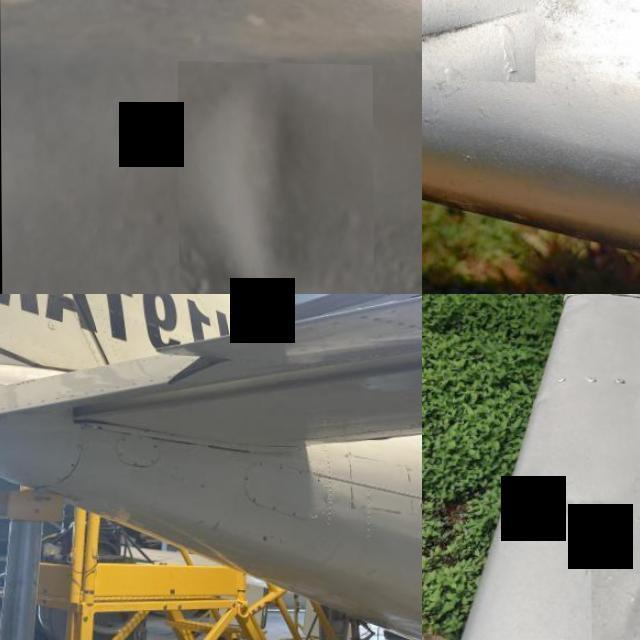Dent: (177, 60, 373, 294), (422, 0, 534, 80), (590, 545, 640, 640)
Missing_Fastener: (257, 460, 263, 466), (251, 496, 257, 501), (290, 510, 296, 514), (312, 512, 314, 516)
